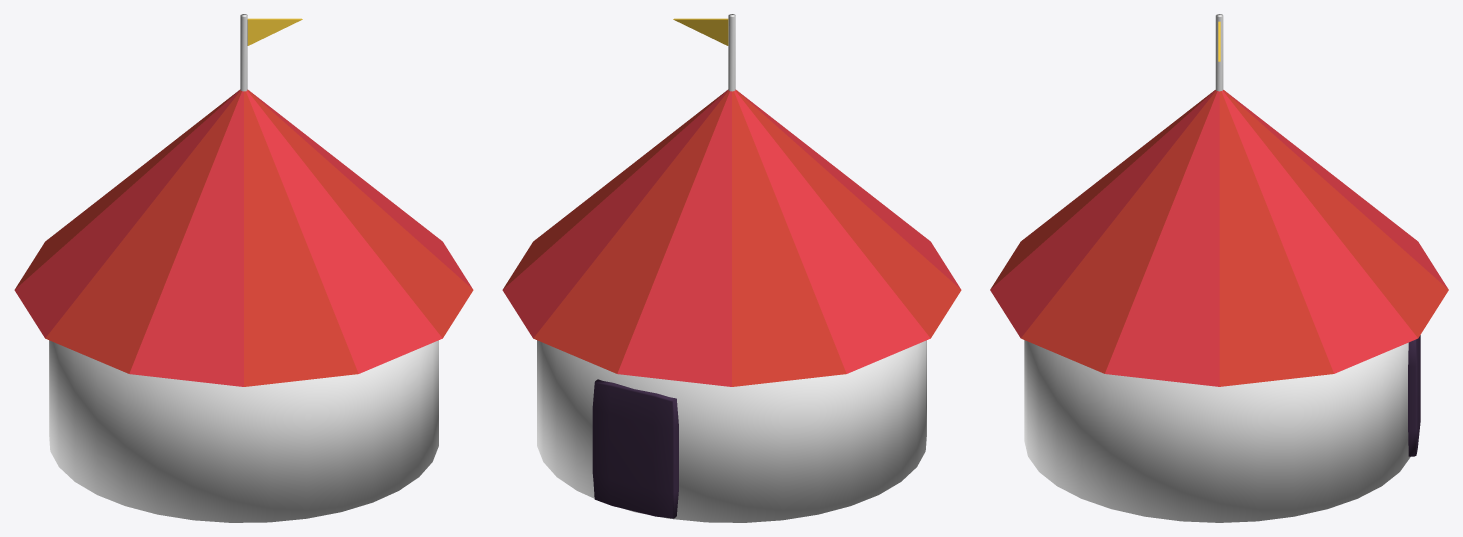
The model's file is RockinRacewayTent.obj.
3 views of the same model, side by side, from view 1: azimuth 30°, elevation 25°; view 2: azimuth 150°, elevation 25°; view 3: azimuth 270°, elevation 25° (orthographic).
Parts seen in each view (by area): view 1: Walls, Stripes, Roof, Pennant, Pole; view 2: Roof, Stripes, Walls, Door, Pennant, Pole; view 3: Walls, Stripes, Roof, Door, Pole.
Boxes of the visible parts, x1,y1,x2,y2 form: Walls: (49,340,438,522); Stripes: (14,90,472,386); Roof: (15,90,473,386); Pennant: (247,18,302,45); Pole: (240,14,247,91); Roof: (503,90,961,386); Stripes: (502,90,960,386); Walls: (537,340,926,522); Door: (592,379,678,518); Pennant: (673,18,728,45); Pole: (728,14,735,91); Walls: (1024,340,1410,522); Stripes: (990,90,1448,386); Roof: (990,90,1448,386); Door: (1408,335,1420,456); Pole: (1215,14,1223,91).
Size of the model in its own units: 9.4 by 9.6 by 9.4.
